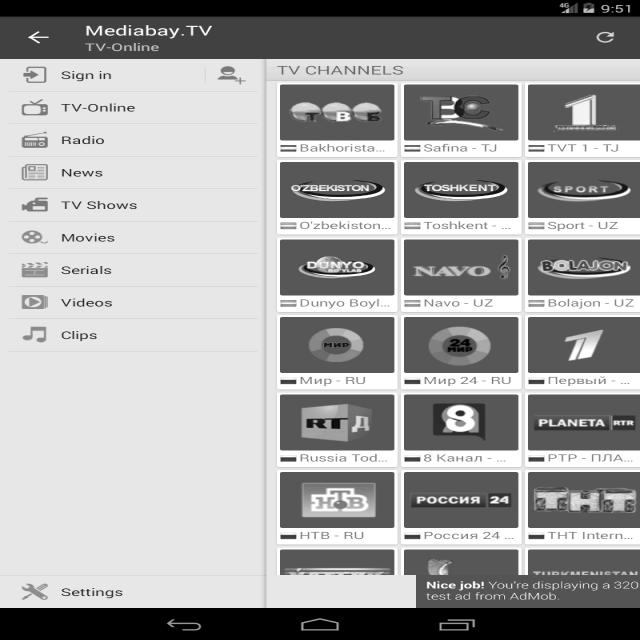ImageButton: (19, 24, 62, 50), (588, 27, 622, 45)
ImageView: (280, 83, 637, 140), (280, 238, 630, 294), (281, 394, 634, 448), (12, 63, 49, 345), (209, 61, 245, 87)
TextView: (81, 21, 220, 53), (269, 60, 408, 78), (54, 194, 148, 212), (56, 100, 142, 118), (55, 260, 122, 280), (58, 130, 112, 149), (57, 328, 105, 345)
